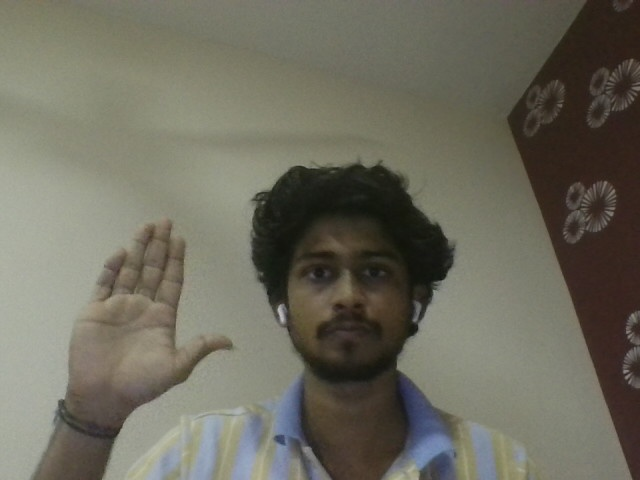hello: (65, 212, 245, 418)
